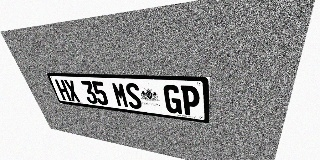3: (80, 81, 98, 104)
5: (91, 81, 109, 106)
G: (163, 84, 182, 114)
H: (54, 79, 72, 101)
M: (111, 82, 130, 108)
P: (180, 85, 200, 116)
S: (124, 83, 143, 110)
X: (63, 80, 81, 102)
